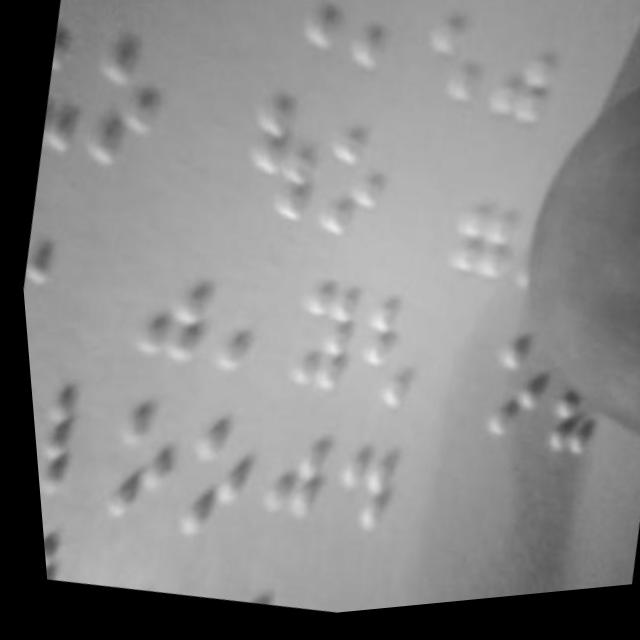braiile: (73, 30, 183, 189), (473, 0, 578, 153), (428, 156, 532, 308), (118, 231, 222, 379), (265, 272, 367, 420), (302, 121, 404, 263), (334, 289, 430, 435), (226, 95, 326, 234), (197, 255, 291, 398), (158, 406, 254, 546), (87, 399, 185, 532), (407, 0, 506, 129), (463, 334, 558, 467), (24, 374, 116, 508), (29, 26, 100, 164), (12, 180, 76, 330), (337, 0, 431, 99), (261, 0, 355, 70)
